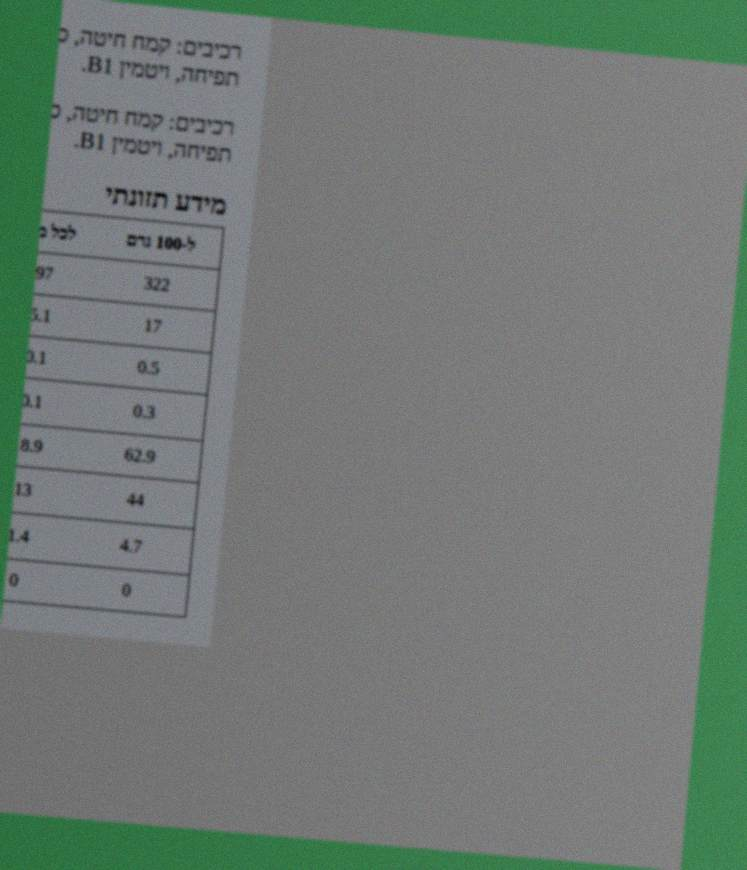carbs: (121, 443, 158, 469)
energy: (140, 271, 173, 297)
fat: (134, 355, 163, 380)
protein: (141, 314, 165, 338)
